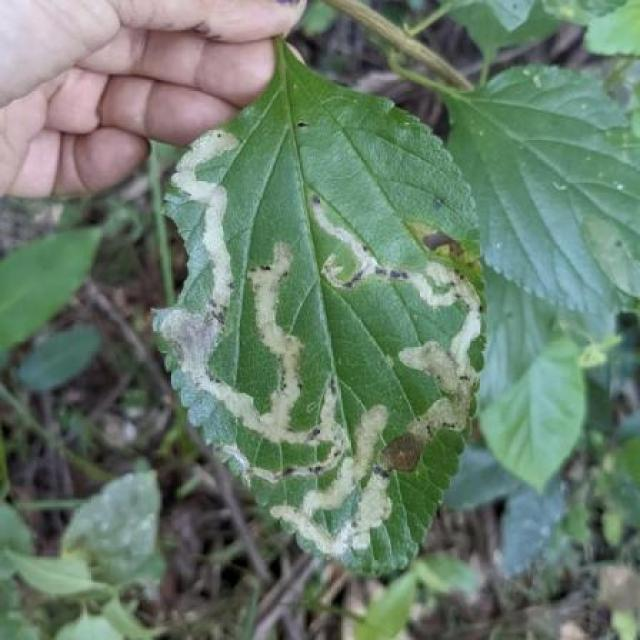Leaf Miner: (150, 74, 487, 580)
